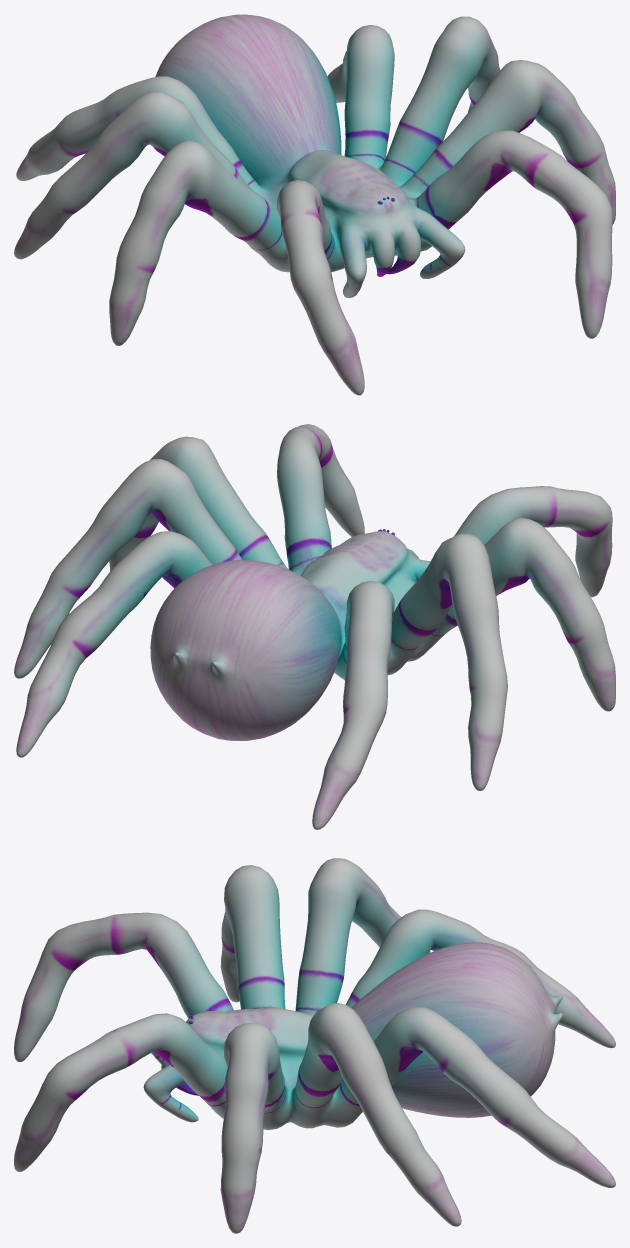
Rendered from gooty-tarantula.glb.
The picture shows the model from 3 angles, top to bottom: view 1: azimuth 30°, elevation 25°; view 2: azimuth 150°, elevation 25°; view 3: azimuth 270°, elevation 25°; orthographic projection. The views are drawn at different scales.
Visible parts, largest first — view 1: Object_8; view 2: Object_8; view 3: Object_8.
Part boxes in pixels (<box>): Object_8: <box>14,14,615,395</box>; Object_8: <box>14,424,615,829</box>; Object_8: <box>14,858,615,1233</box>.
Bounding box in the file's own units: 0.218 × 0.0792 × 0.2336.
1 material, 1 textured.
